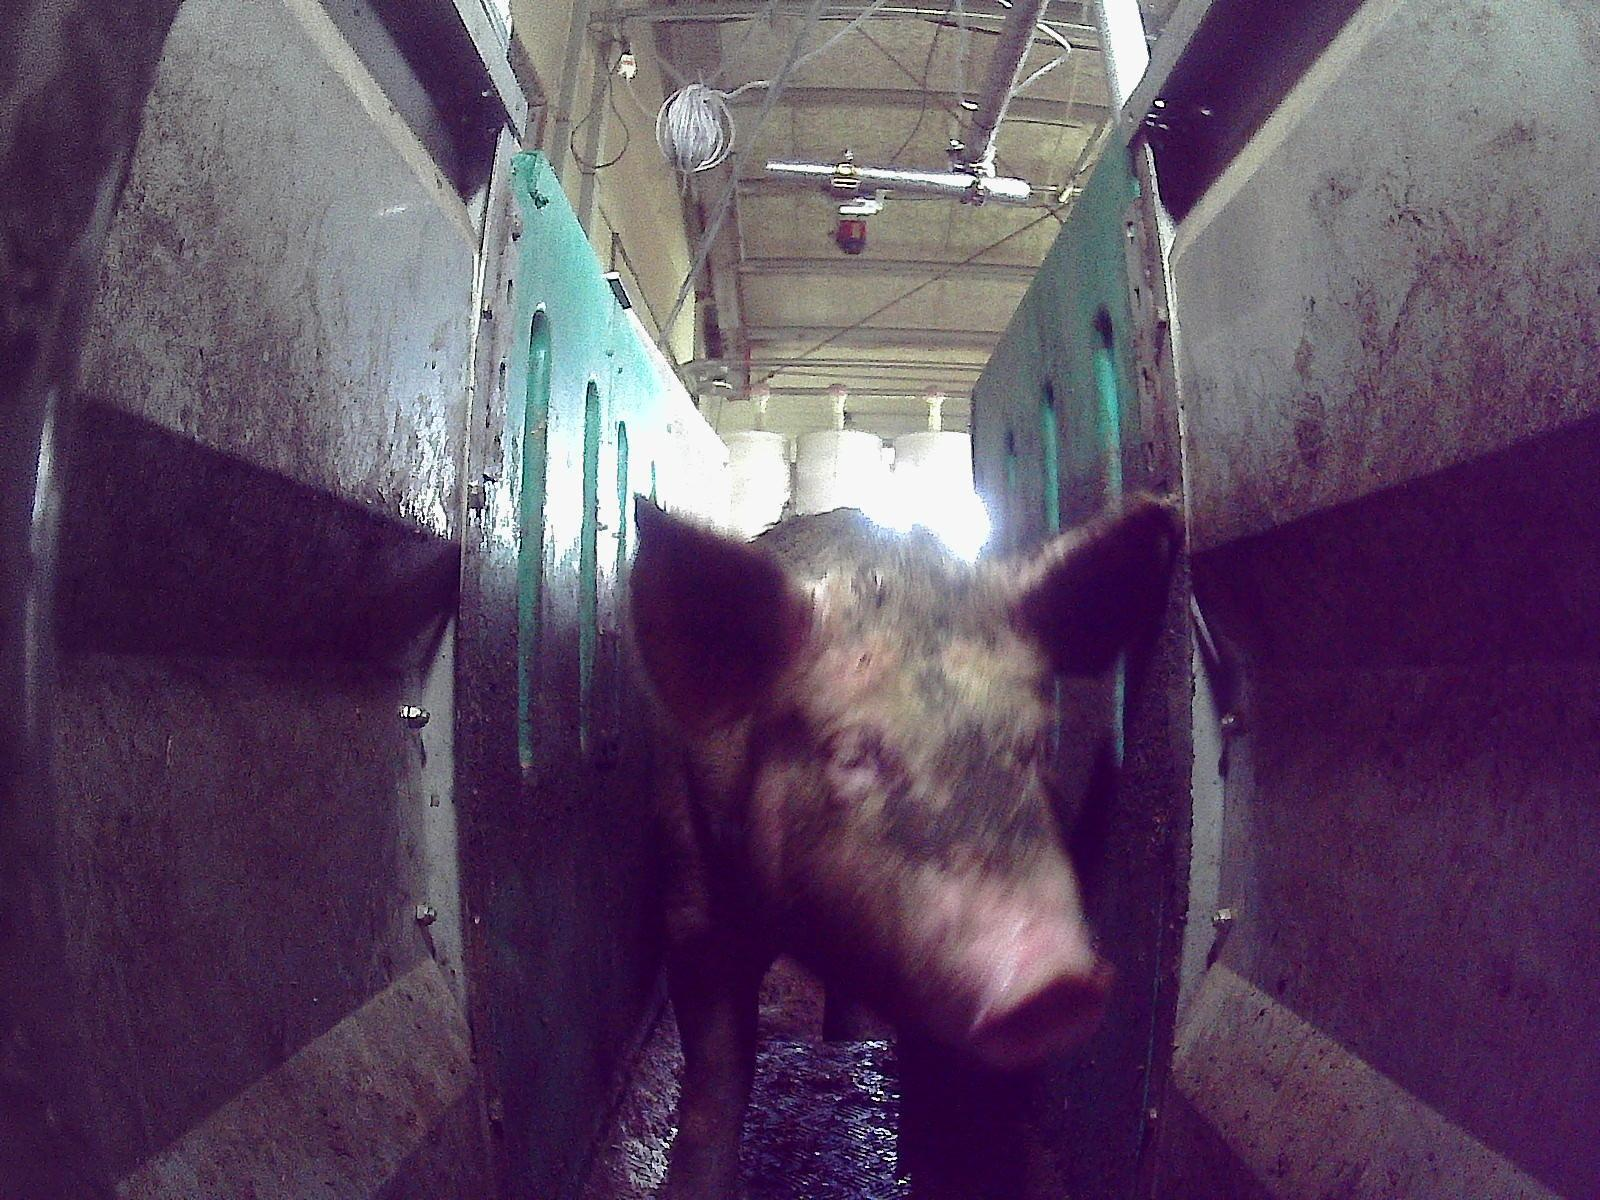Face: (739, 588, 1112, 1066)
